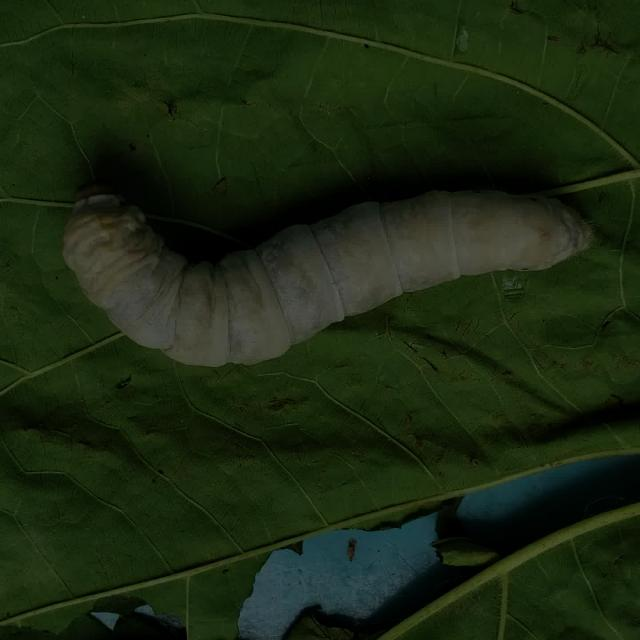Grasserie: (56, 152, 616, 382)
